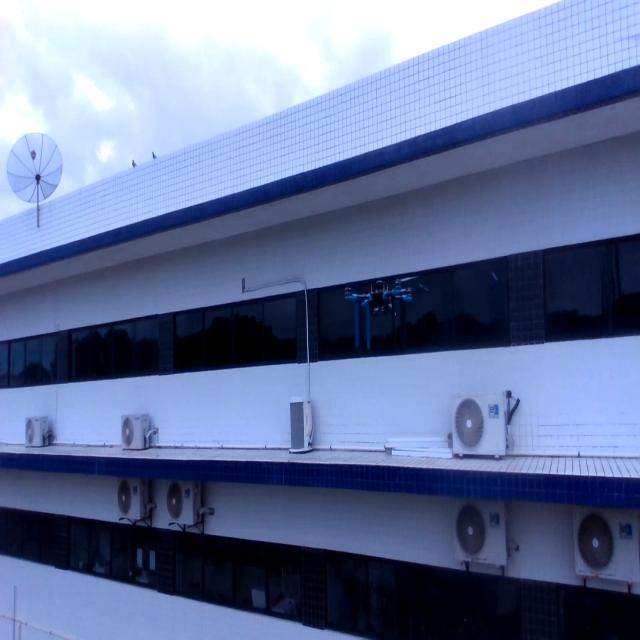-uav-: (340, 268, 426, 366)
